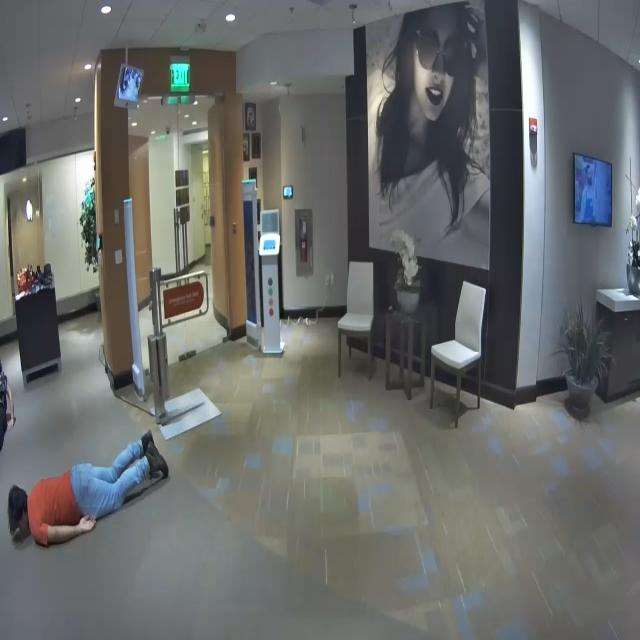fall: (9, 432, 170, 549)
